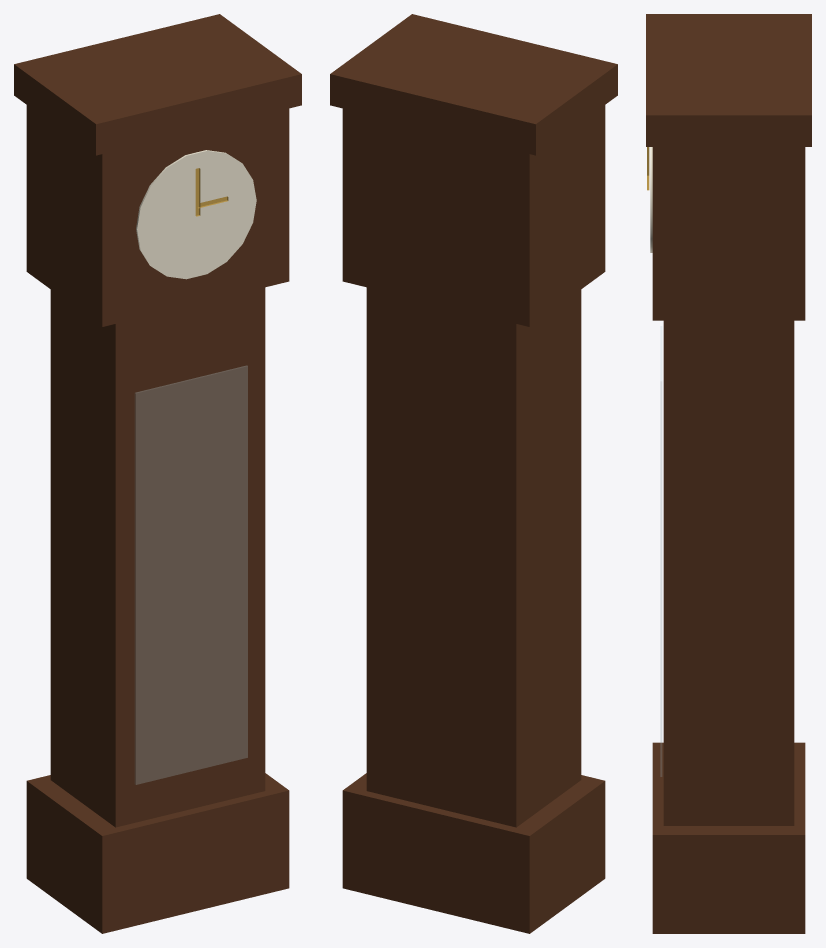
The model's file is clock.glb.
3 views of the same model, side by side, from view 1: azimuth 30°, elevation 25°; view 2: azimuth 150°, elevation 25°; view 3: azimuth 270°, elevation 25° (orthographic).
Parts seen in each view (by area): view 1: grandfather_clock; view 2: grandfather_clock; view 3: grandfather_clock.
Part boxes in pixels (x1=…): grandfather_clock: x1=14, y1=14, x2=301, y2=933; grandfather_clock: x1=330, y1=14, x2=617, y2=933; grandfather_clock: x1=646, y1=14, x2=811, y2=933.
Size of the model in its own units: 0.55 by 2.08 by 0.38.
